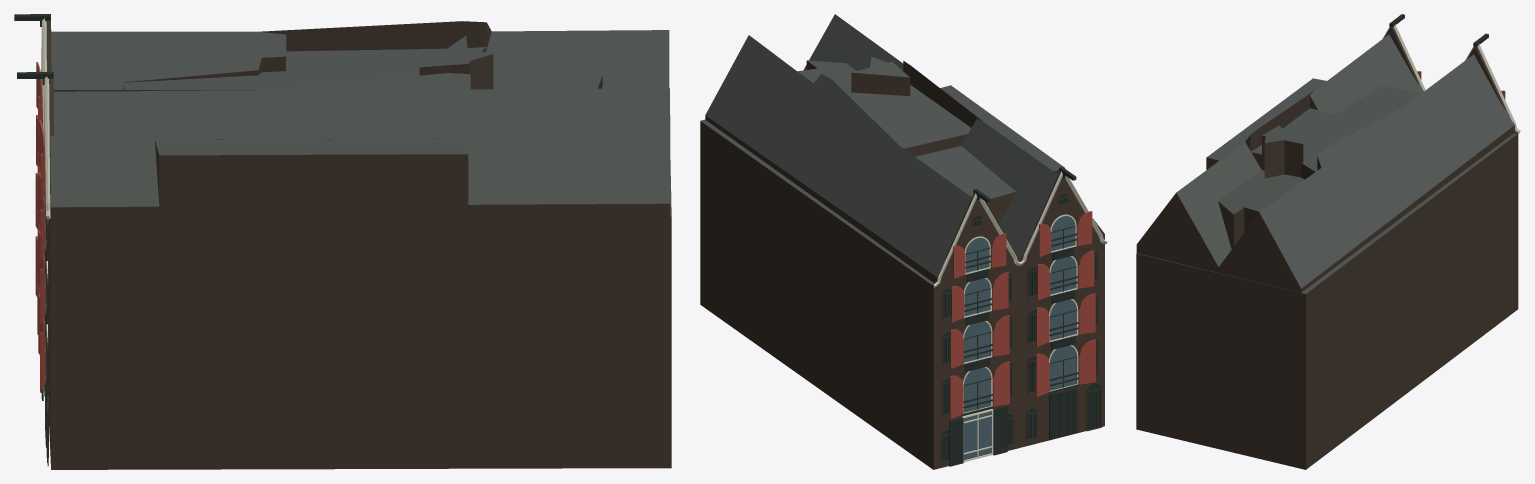
3 views of the same model, side by side, from view 1: azimuth 30°, elevation 25°; view 2: azimuth 150°, elevation 25°; view 3: azimuth 270°, elevation 25° (orthographic). The views are drawn at different scales.
Visible parts, largest first — view 1: 0363100012169457; view 2: 0363100012169457; view 3: 0363100012169457.
Part boxes in pixels (x1,y1,x2,y2): 0363100012169457: (14, 14, 671, 469); 0363100012169457: (700, 14, 1107, 469); 0363100012169457: (1136, 14, 1520, 469).
Size of the model in its own units: 29.71 by 17.69 by 23.98.
